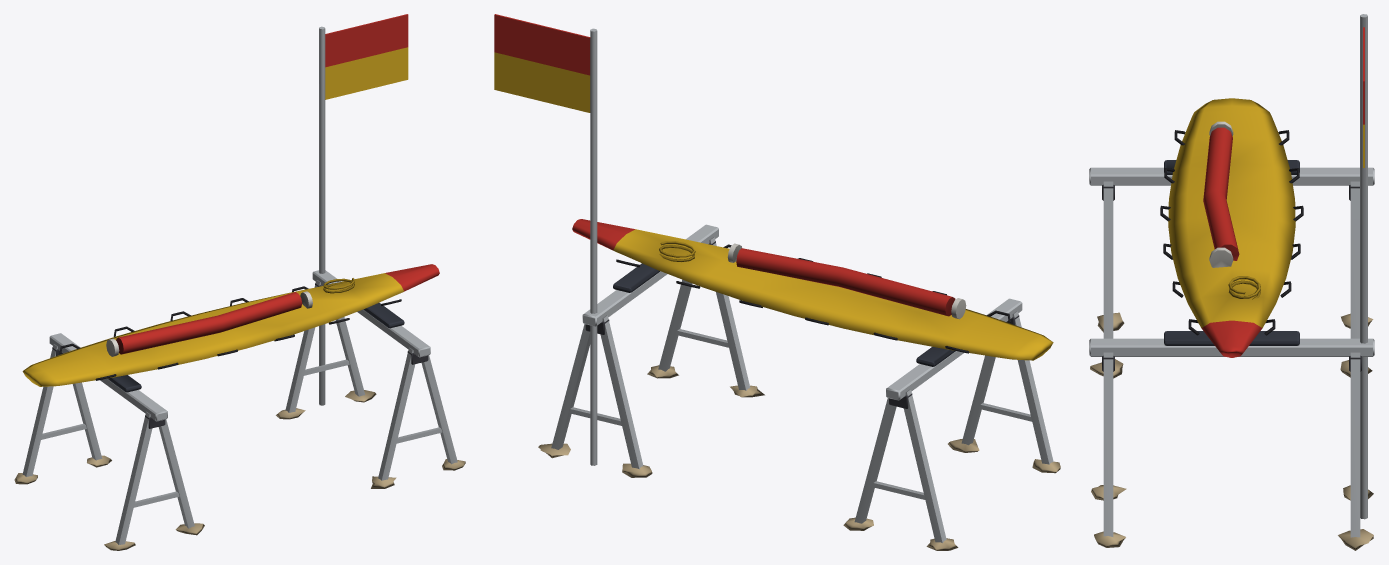
Rendered from RescueBoardStand.fbx.
3 renders of one model, left to right at view 1: azimuth 30°, elevation 25°; view 2: azimuth 150°, elevation 25°; view 3: azimuth 270°, elevation 25°, orthographic. The views are drawn at different scales.
Visible parts, largest first — view 1: RescueBoardStand; view 2: RescueBoardStand; view 3: RescueBoardStand.
Part boxes in pixels (x1=…): RescueBoardStand: x1=14, y1=14, x2=465, y2=550; RescueBoardStand: x1=494, y1=14, x2=1060, y2=550; RescueBoardStand: x1=1089, y1=14, x2=1374, y2=550.
Size of the model in its own units: 3.07 by 2.61 by 1.34.
